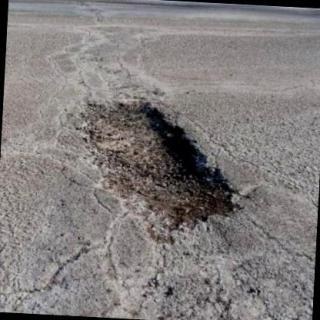pothole: (82, 101, 238, 240)
